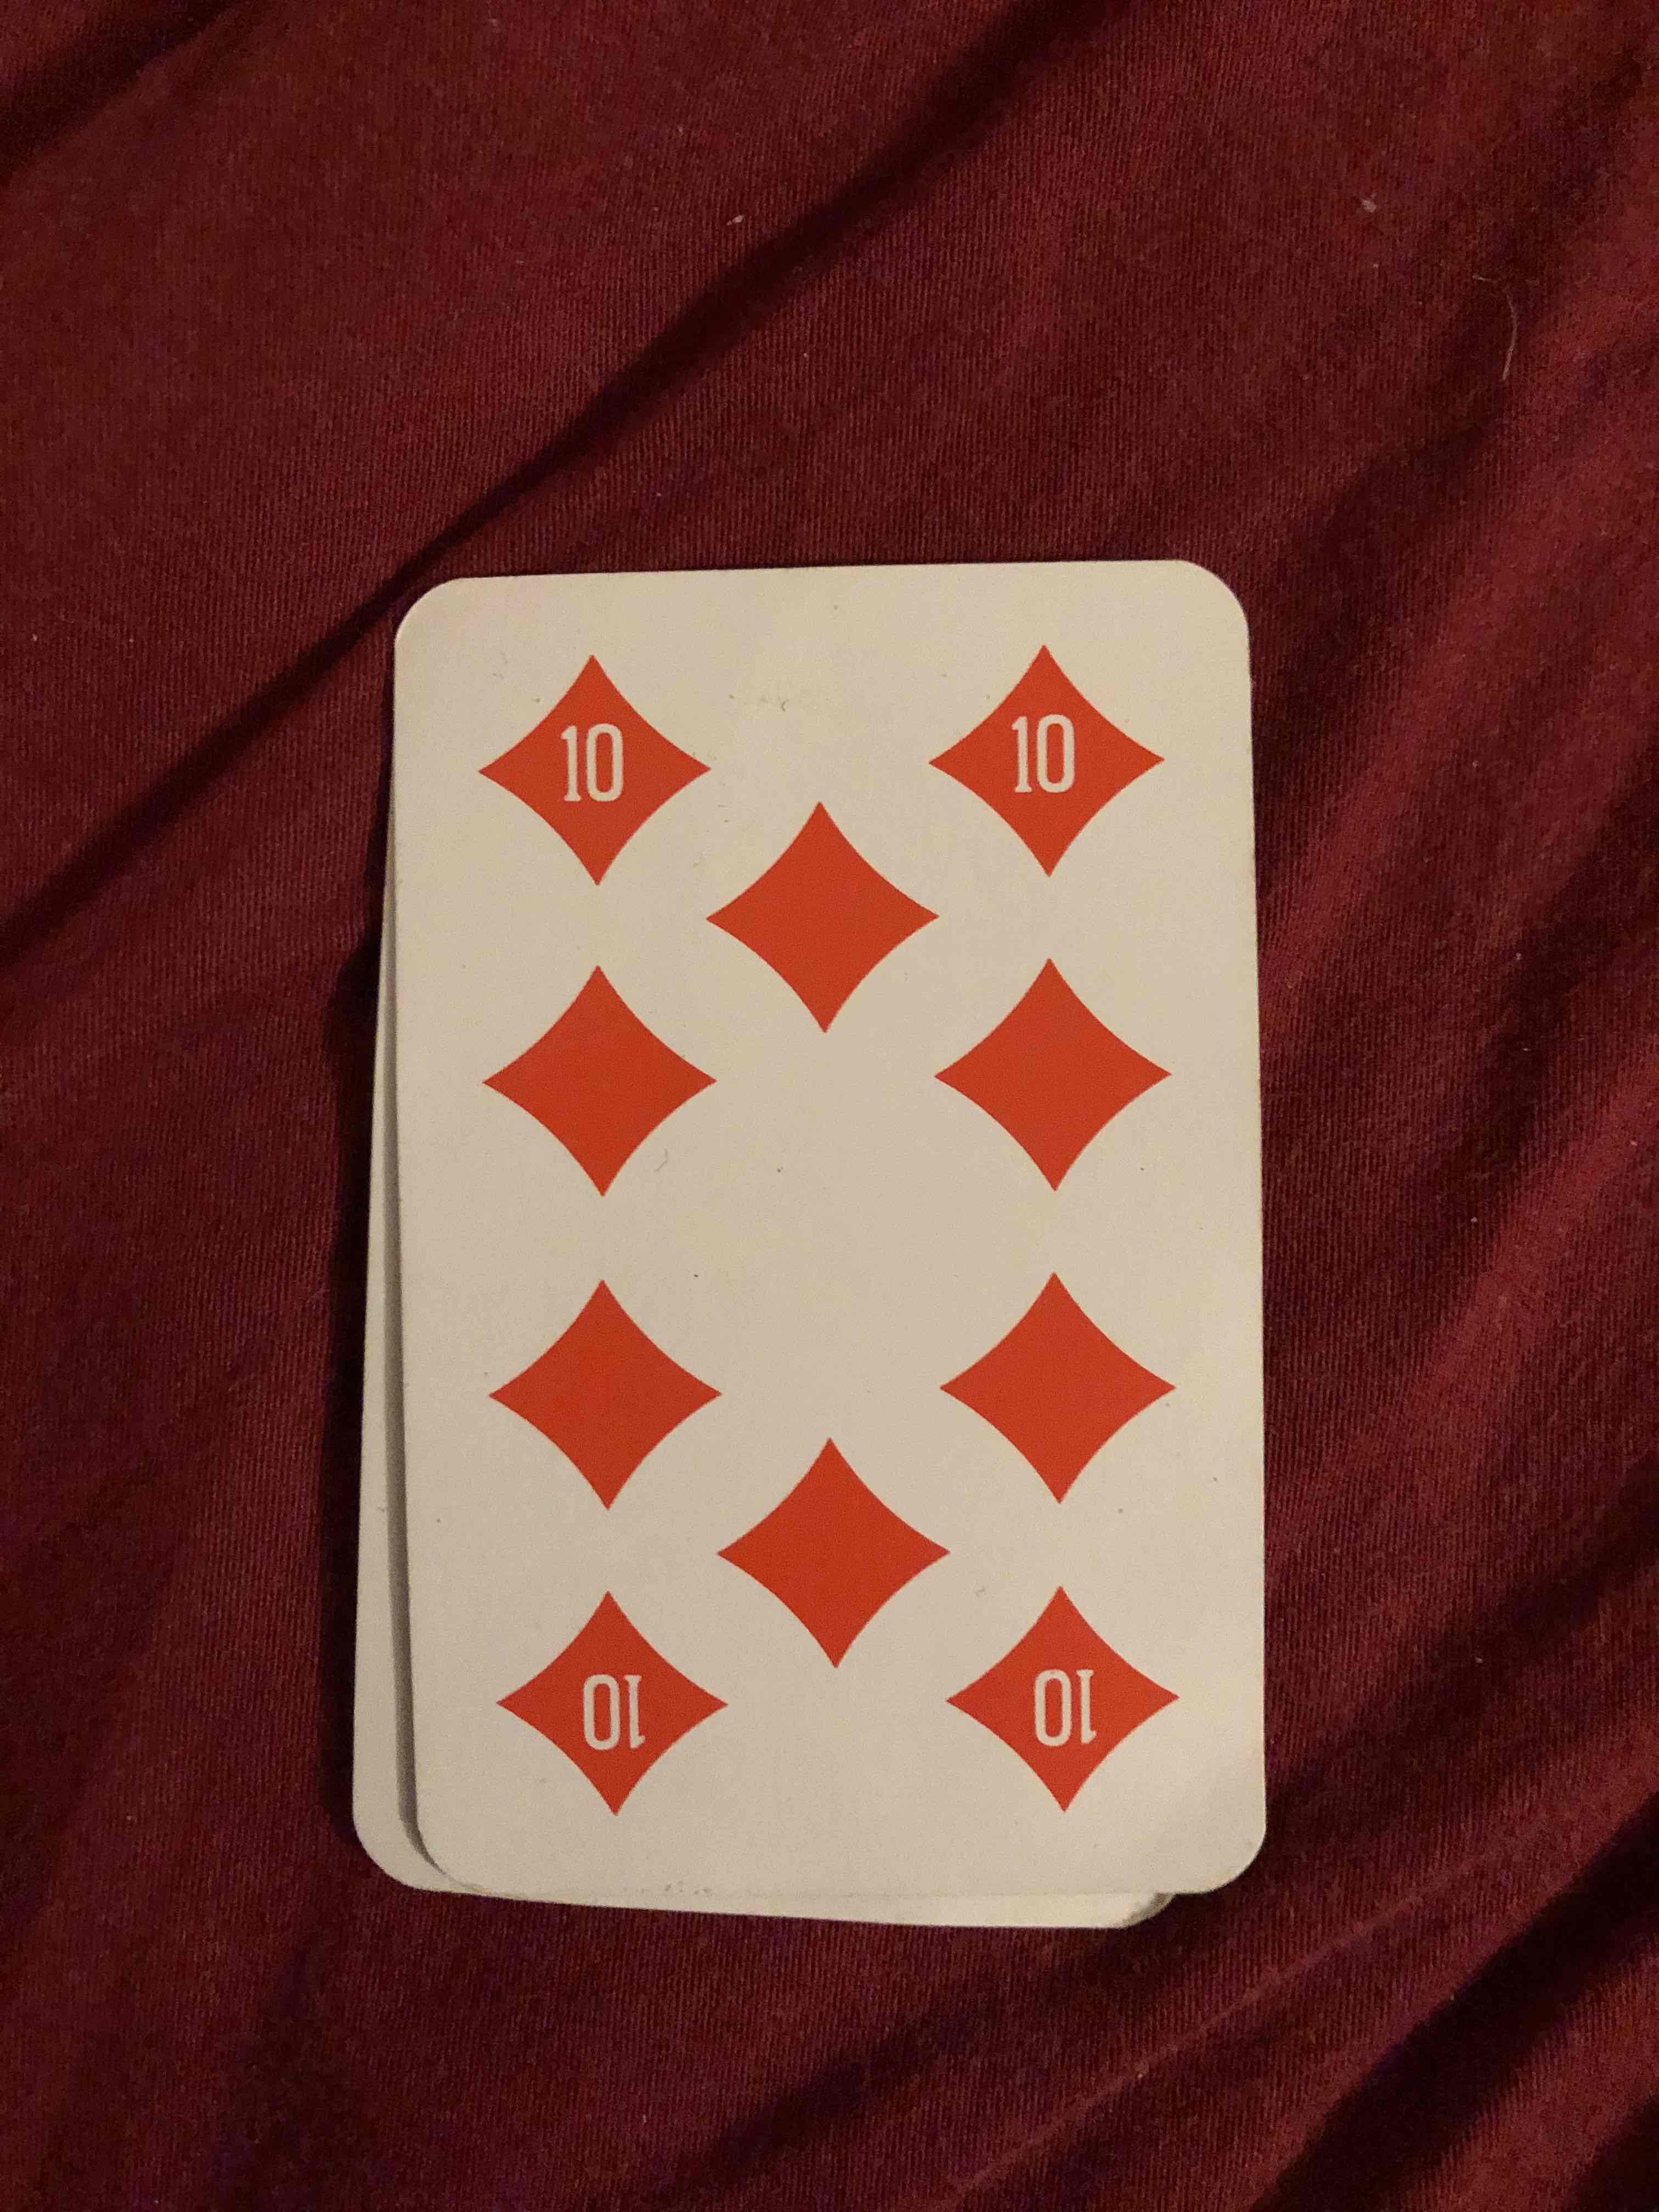diamond10: (404, 566, 1267, 1874)
